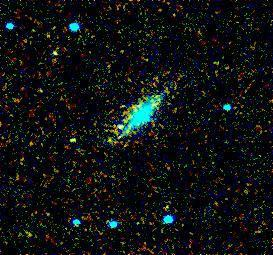star: (107, 113, 137, 143)
